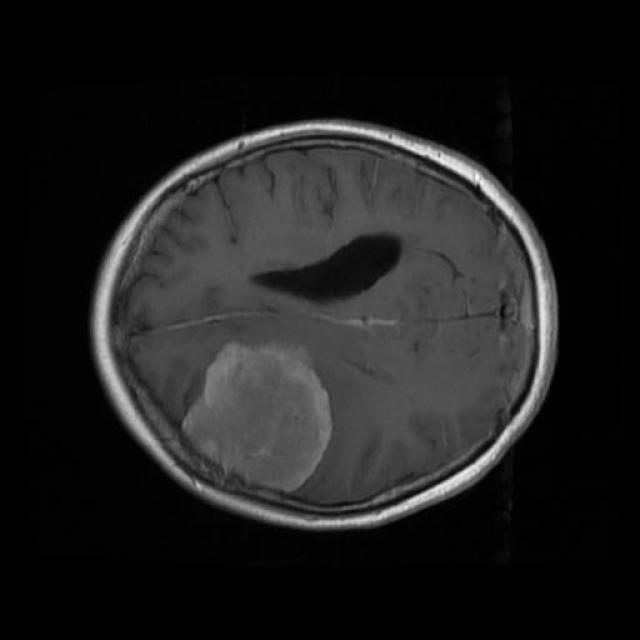Meningioma: (182, 342, 332, 492)
